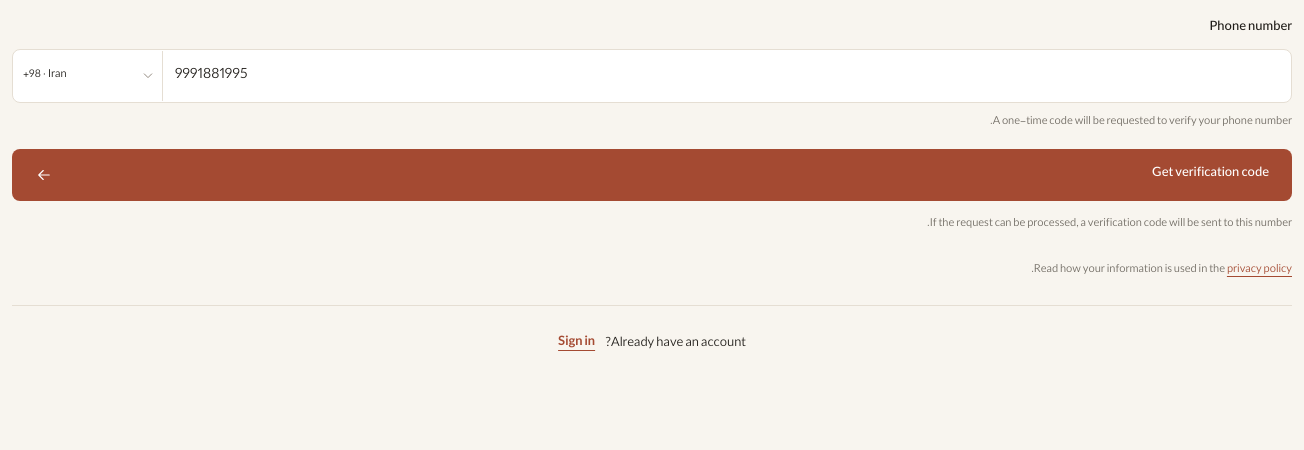
Scenario: does not permanently block requests when retry metadata is absent
Click the button "Get verification code". click: click(1211, 174)
box: [12,148,1292,200]
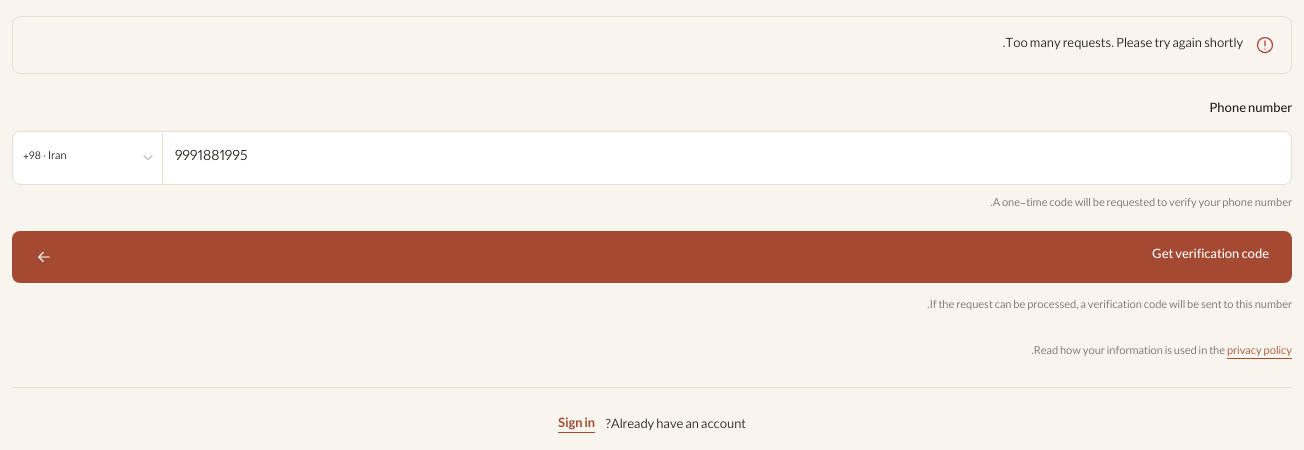
Check: the button "Get verification code" is enabled, box [12,230,1292,282]
Check: the text "Too many requests. Please try again shortly." is shown, box [1002,33,1243,57]
